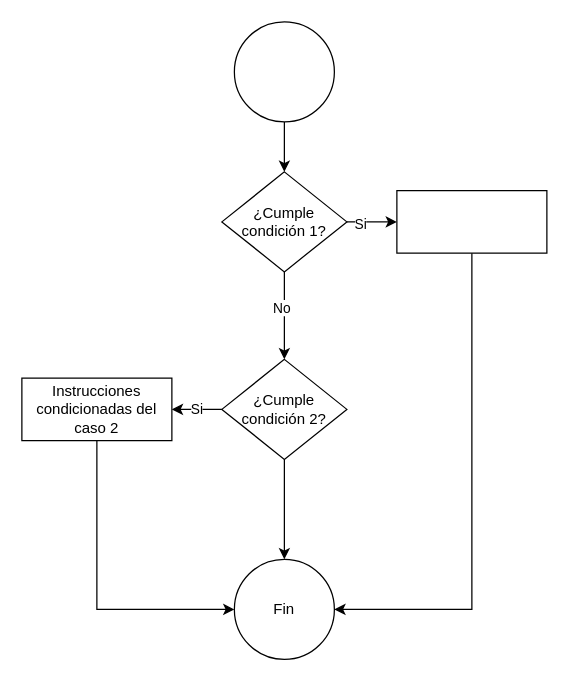
Some shapes in this 569 by 681 pixel diagram are drawn without their labels. The shapes that lost their labels are listed below. From the top down, each one's centre as x and y in pixels, then its label:
At (x=283, y=71): "Inicio".
At (x=471, y=221): "Instrucciones condicionadas del caso 1".
